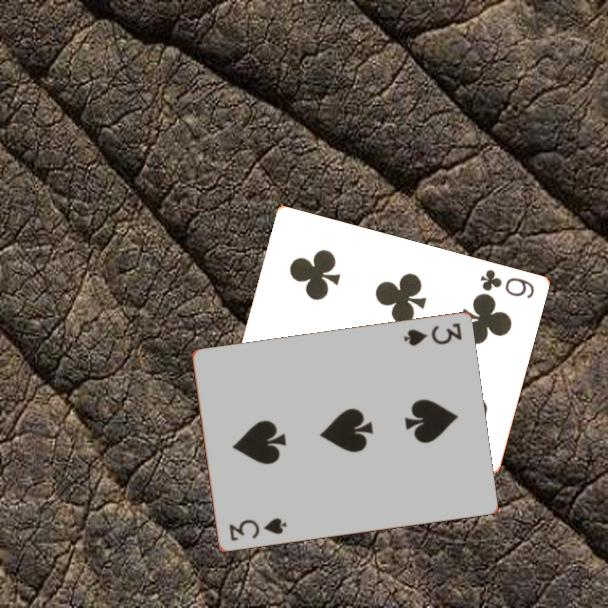c06: (476, 266, 537, 302)
s03: (400, 320, 465, 349), (225, 515, 289, 544)
